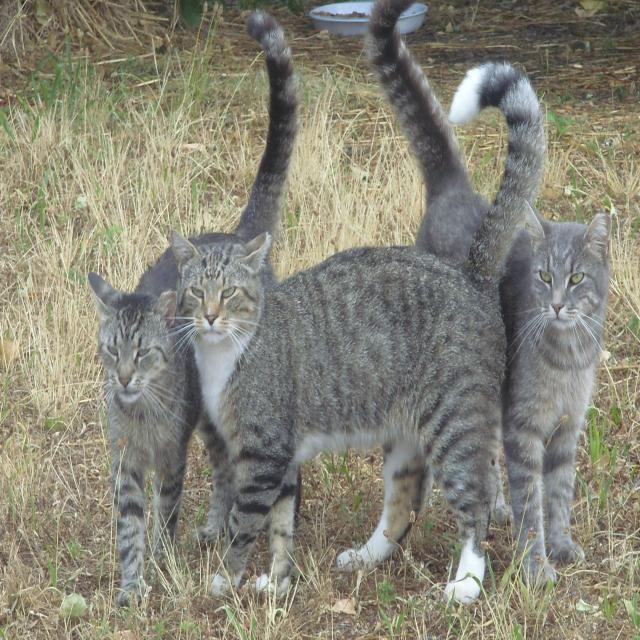cat: (172, 63, 545, 603), (89, 247, 232, 605), (500, 208, 611, 583), (369, 13, 489, 260), (194, 13, 299, 245)
